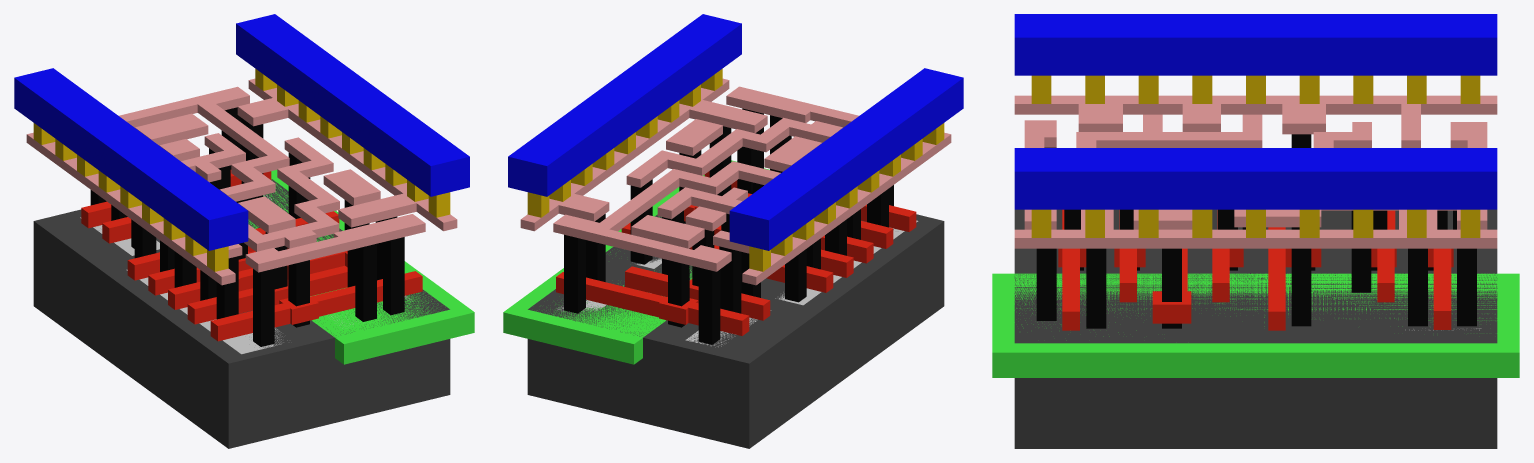
The model's file is sky130_fd_sc_hd__or4bb_1.obj.
The picture shows the model from 3 angles, left to right: view 1: azimuth 30°, elevation 25°; view 2: azimuth 150°, elevation 25°; view 3: azimuth 270°, elevation 25°; orthographic projection. The views are drawn at different scales.
Parts seen in each view (by area): view 1: subs, metal1, li, licon, poly, nwell, mcon, diff; view 2: subs, metal1, li, licon, poly, nwell, mcon, diff; view 3: subs, metal1, li, nwell, licon, mcon, poly.
Part boxes in pixels (<box>): subs: <box>33,179,450,448</box>; metal1: <box>14,14,469,250</box>; li: <box>26,78,457,285</box>; licon: <box>90,107,404,346</box>; poly: <box>81,170,422,341</box>; nwell: <box>248,170,474,364</box>; mcon: <box>33,68,450,271</box>; diff: <box>80,217,287,354</box>; subs: <box>527,214,944,448</box>; metal1: <box>508,14,963,250</box>; li: <box>520,78,951,285</box>; licon: <box>564,108,893,344</box>; poly: <box>556,171,916,335</box>; nwell: <box>503,160,769,364</box>; mcon: <box>527,68,944,271</box>; diff: <box>685,220,918,347</box>; subs: <box>1014,209,1497,448</box>; metal1: <box>1014,14,1497,209</box>; li: <box>1014,95,1497,248</box>; nwell: <box>992,273,1519,377</box>; licon: <box>1036,134,1476,328</box>; mcon: <box>1031,75,1480,237</box>; poly: <box>1058,209,1453,330</box>.
Size of the model in its own units: 3.2 by 2.74 by 4.52.
